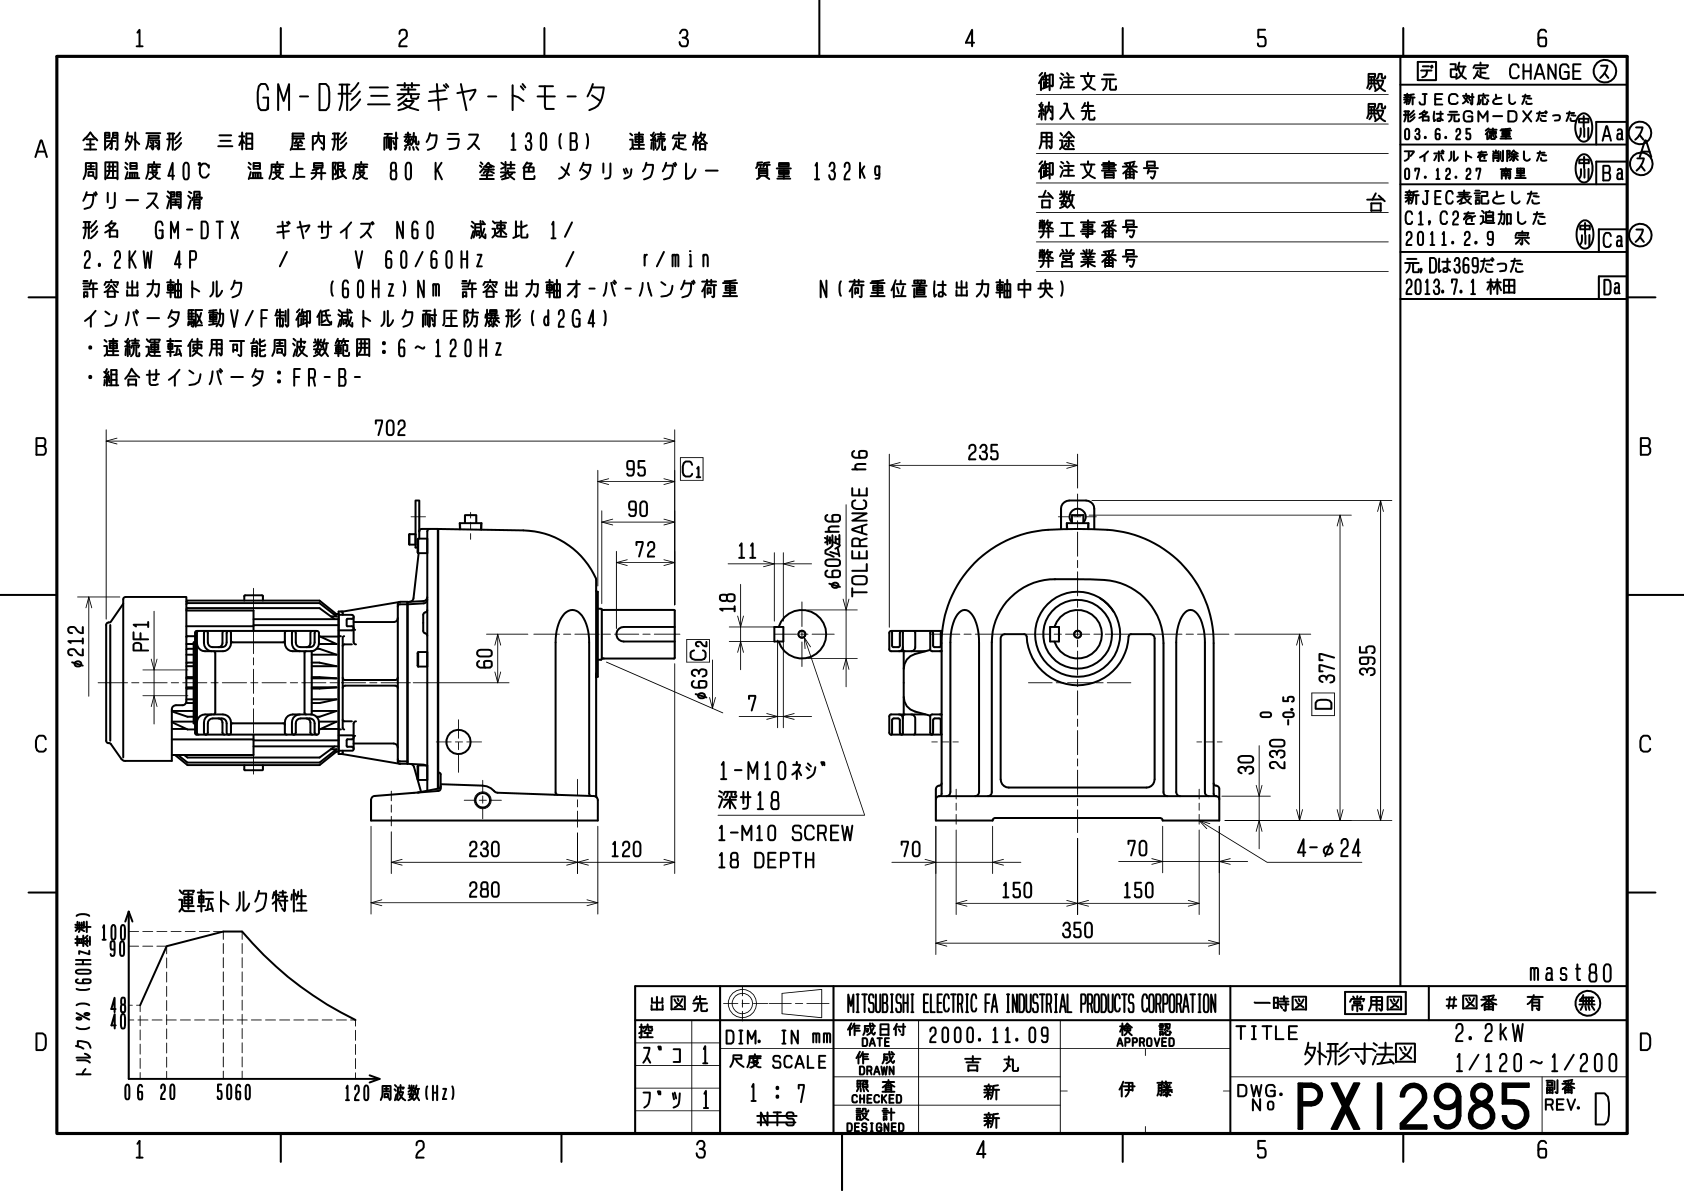GM_D_VF制御屋内_三相_脚: (61, 410, 1392, 969)
